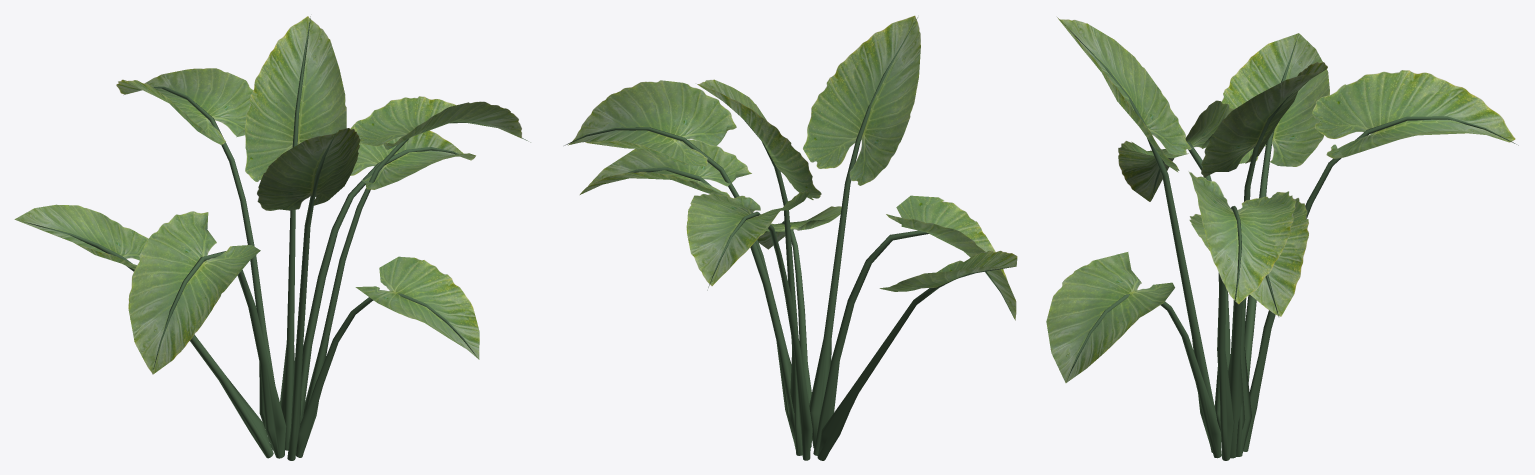
The model's file is elephant_ear_plant.glb.
3 renders of one model, left to right at view 1: azimuth 30°, elevation 25°; view 2: azimuth 150°, elevation 25°; view 3: azimuth 270°, elevation 25°, orthographic. The views are drawn at different scales.
Parts seen in each view (by area): view 1: ElephantEarLeaf; view 2: ElephantEarLeaf; view 3: ElephantEarLeaf.
Part boxes in pixels (x1,y1,x2,y2): ElephantEarLeaf: (14, 16, 530, 460); ElephantEarLeaf: (564, 15, 1017, 460); ElephantEarLeaf: (1046, 17, 1518, 460).
Size of the model in its own units: 2 by 1.53 by 1.55.
1 material, 1 textured.
